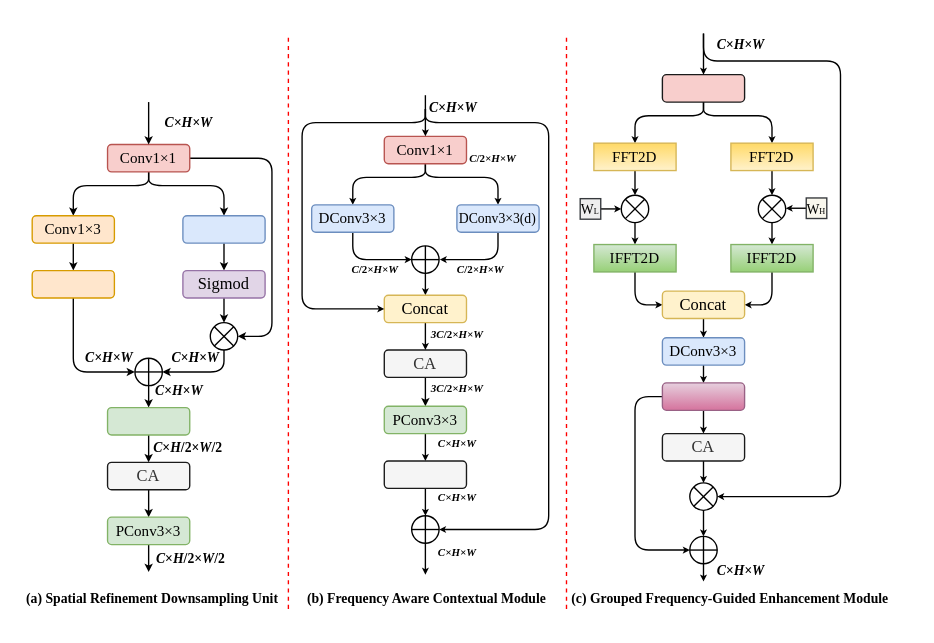
This 934x643 diagram has some shape labels left out. Each missing label, with the box of its shape:
BN + GELU: (661, 382, 745, 410)
Channel Split: (661, 73, 745, 102)
Conv3×1: (31, 269, 114, 298)
Conv3×3,S=2: (106, 406, 190, 435)
DSConv3×3: (182, 214, 265, 243)
GFGE: (383, 460, 466, 488)
